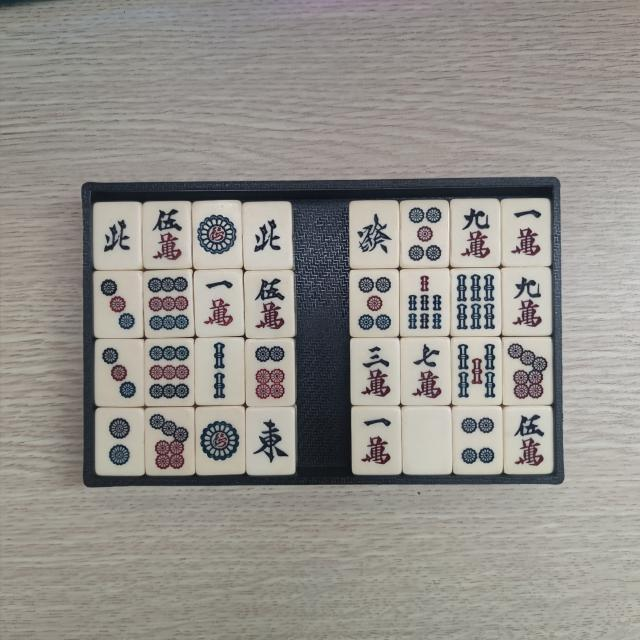hdg: (356, 205, 396, 265)
hdw: (408, 411, 447, 469)
hwe: (251, 414, 292, 472)
hwn: (98, 204, 136, 264), (248, 207, 286, 266)
sb2: (199, 341, 241, 402)
sb5: (456, 340, 499, 401)
sb6: (456, 272, 498, 332)
sb7: (405, 273, 446, 334)
sc1: (507, 202, 547, 262), (199, 273, 239, 332), (356, 412, 395, 470)
sc3: (356, 340, 396, 400)
sc5: (148, 205, 188, 265), (509, 410, 549, 470), (251, 275, 291, 335)
sc7: (406, 340, 446, 400)
sc9: (454, 203, 496, 262), (508, 272, 546, 331)
sd1: (196, 206, 240, 266), (199, 413, 242, 472)
sd2: (100, 412, 140, 470)
sd3: (98, 344, 140, 404), (98, 274, 138, 334)
sd4: (457, 411, 497, 469)
sd5: (406, 203, 446, 263), (354, 274, 394, 332)
sd6: (252, 344, 291, 402)
sd7: (507, 340, 550, 400), (150, 411, 192, 472)
sd9: (146, 274, 190, 334), (151, 343, 194, 401)
